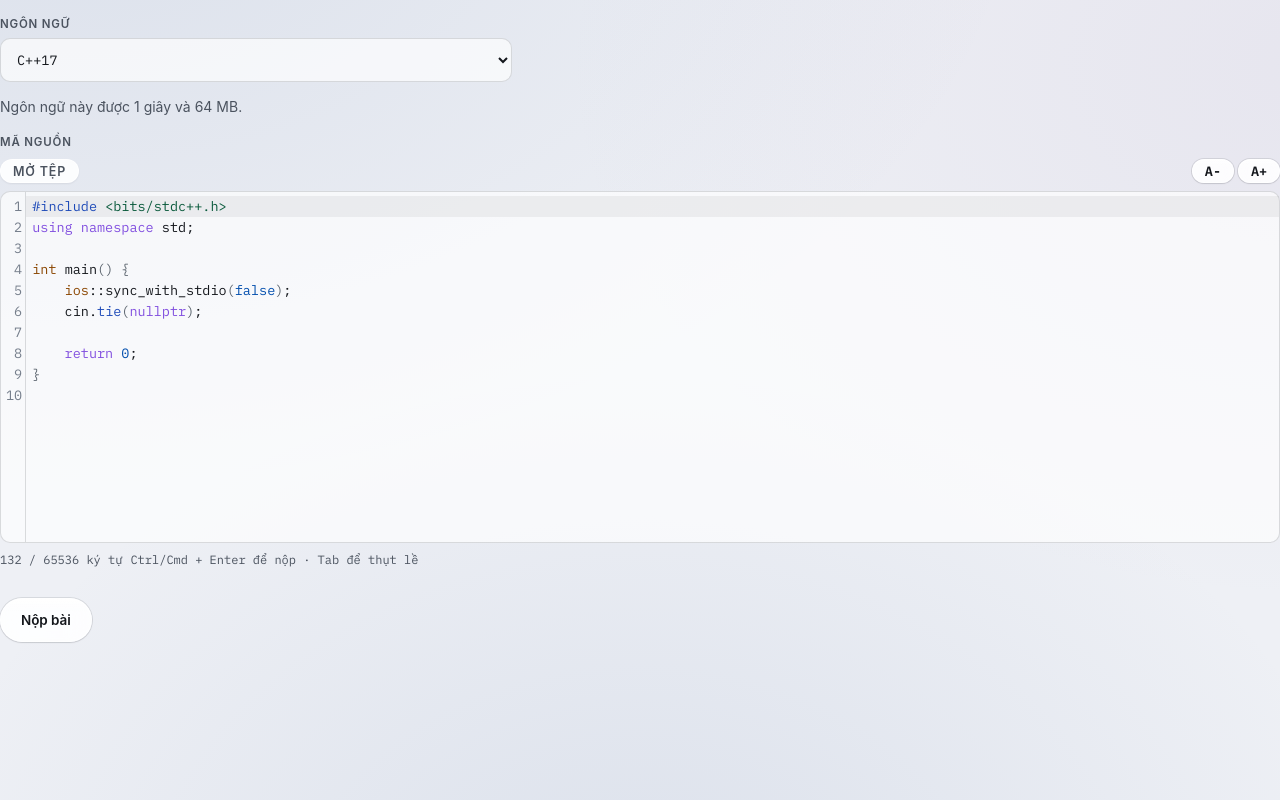
the language picker, once there is more than one language › gives back the draft waiting in the language switched TO (D84)
Select "Python 3" in the dropdown labelled "Ngôn ngữ". click: [256, 60]
box: [0,38,512,82]
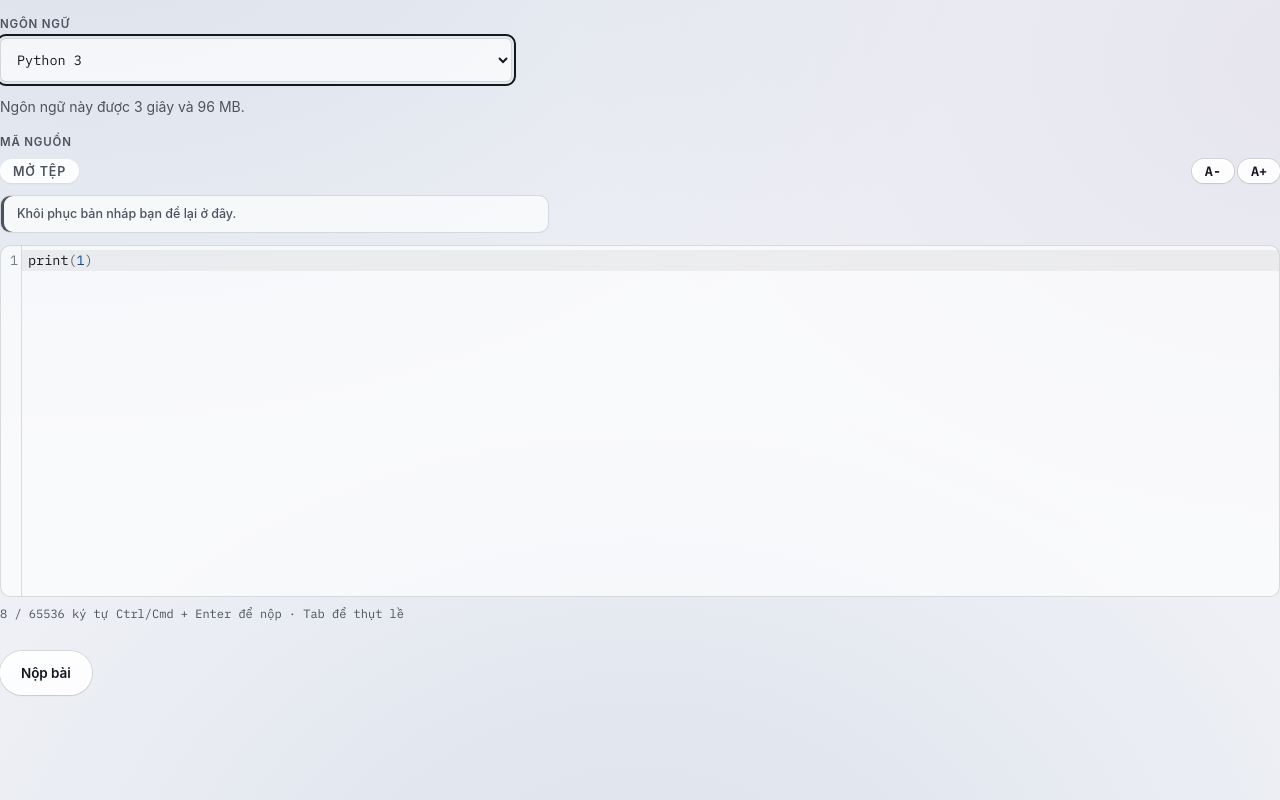
Check: the text box labelled "print(1)" is shown, box [22,250,1279,271]
Check: the message shows "Khôi phục bản nháp", box [17,206,236,221]
